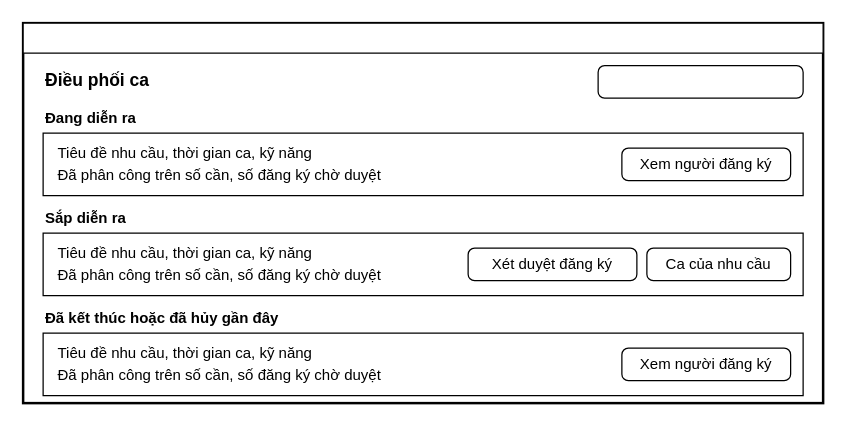
Image size: 845x425. Some labels were removed from this diagram. The shapes that lost their labels are listed below. From the top down, each one's centre as x and y in pixels, then its label:
At pixel 422 37: "Đầu trang và thanh mục (Hình 6.2)".
At pixel 700 81: "Tạo ca từ một nhu cầu".
